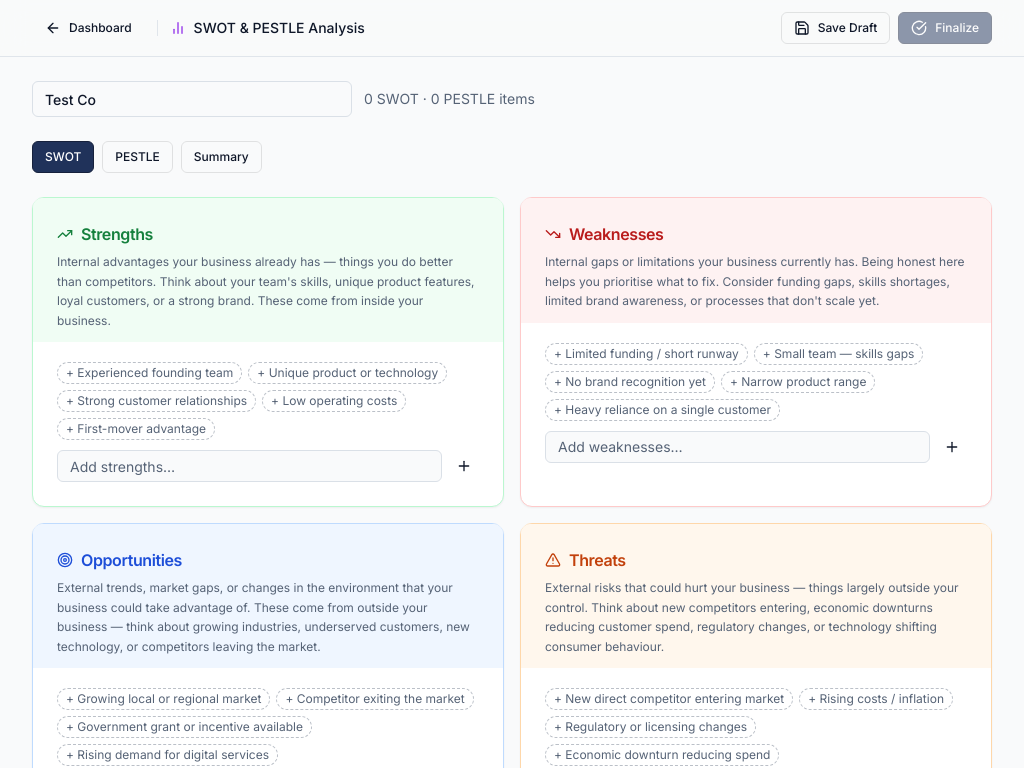
Test case: SWOTPestleTool › summary view shows SWOT Summary and PESTLE Summary headings
The image size is (1024, 768).
Step 1. Click the button with test id "button-tab-summary" → [221, 157], box x1=181 y1=141 x2=262 y2=173
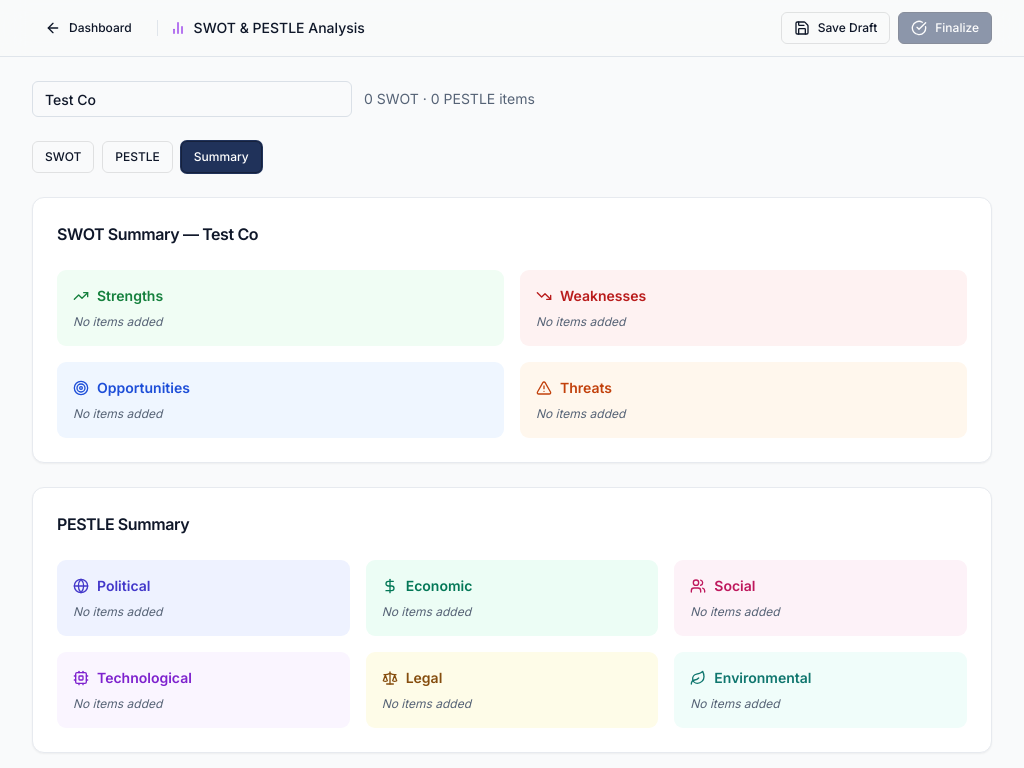
Expected: the text "SWOT Summary — Test Co" is shown, x1=57 y1=224 x2=258 y2=244
Expected: the text "PESTLE Summary" is shown, x1=57 y1=514 x2=189 y2=534
